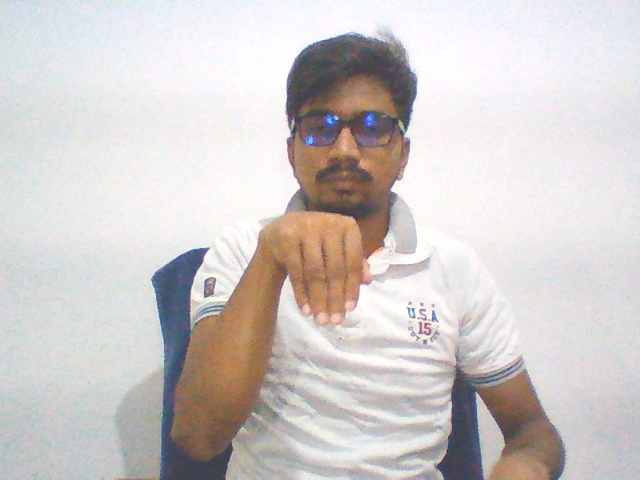Squirrel: (249, 204, 379, 335)
